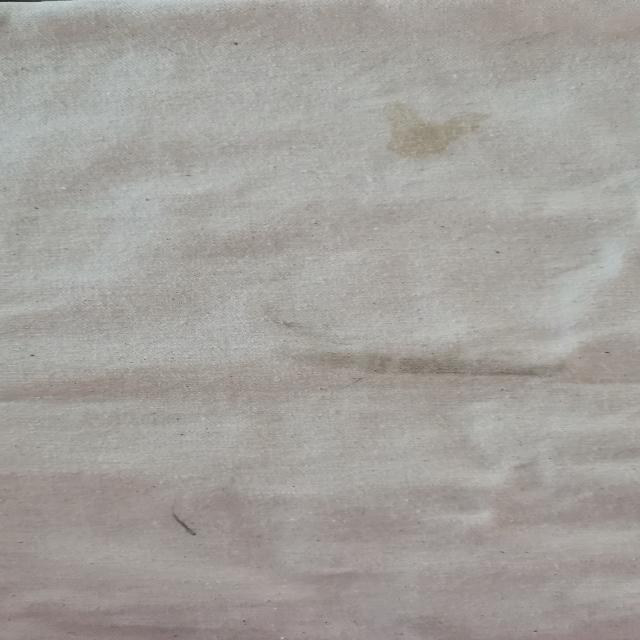taaaches: (288, 344, 574, 392), (366, 91, 502, 168), (253, 306, 362, 342), (154, 507, 232, 552)
